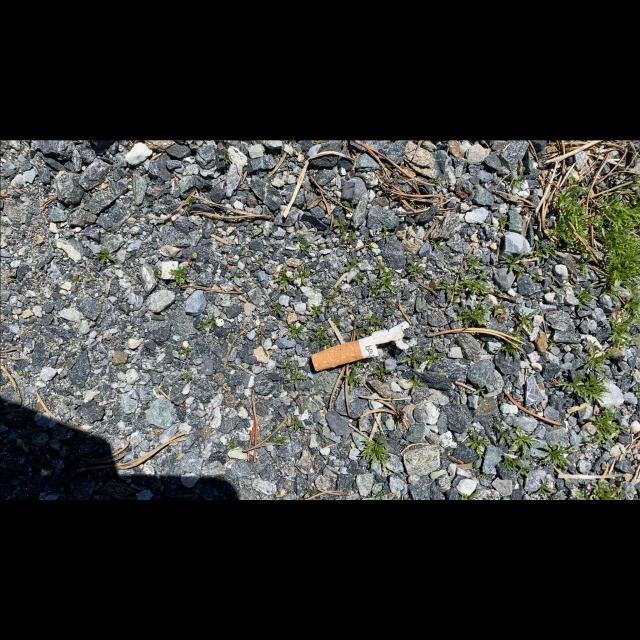cigarette: (311, 320, 410, 372)
